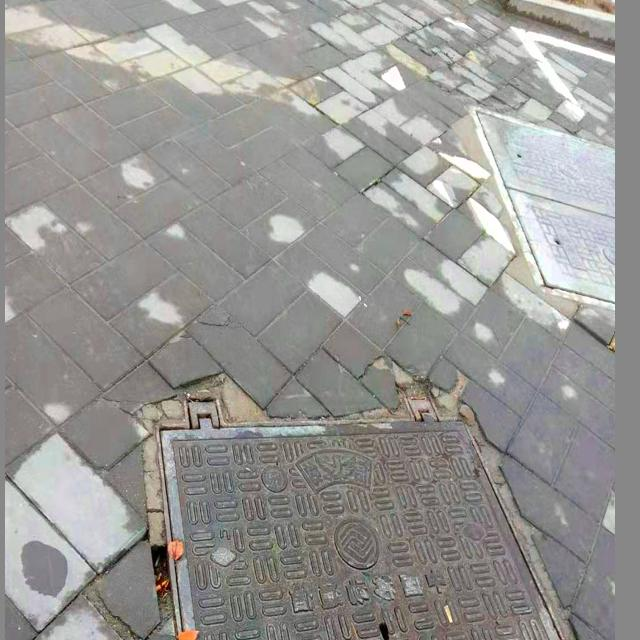good: (158, 398, 575, 640), (473, 103, 615, 297)
